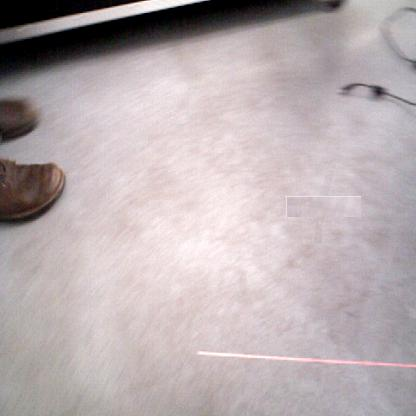mark: (300, 182, 348, 231)
